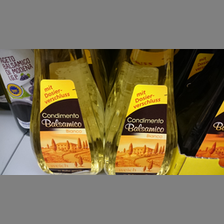vinegar: (30, 48, 104, 173), (106, 49, 177, 175)
